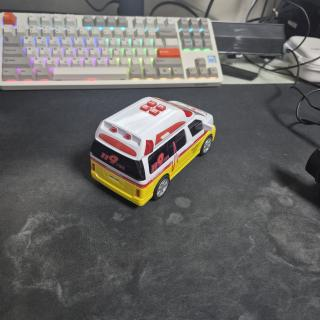Ambulance: (91, 97, 215, 205)
